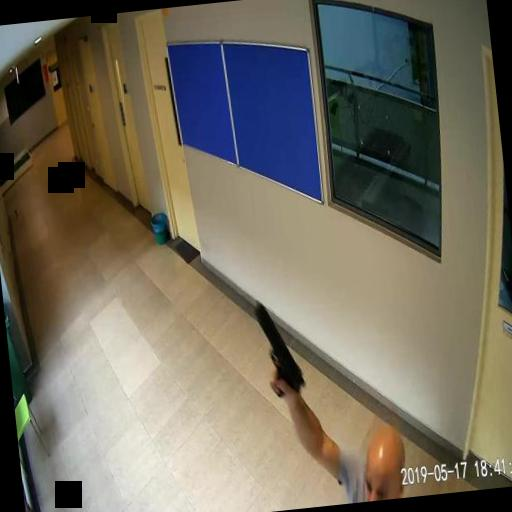Handgun: (254, 297, 306, 400)
